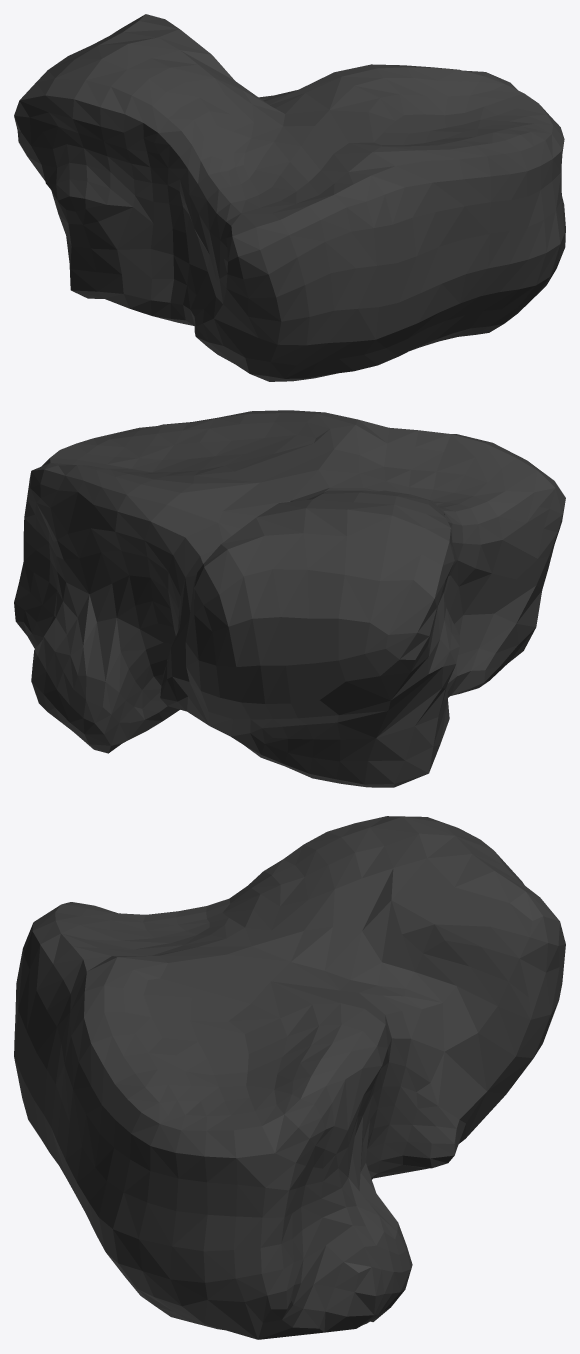
The model's file is 3rd_carpal_R.glb.
3 renders of one model, top to bottom at view 1: azimuth 30°, elevation 25°; view 2: azimuth 150°, elevation 25°; view 3: azimuth 270°, elevation 25°, orthographic. The views are drawn at different scales.
Visible parts, largest first — view 1: 3rd_carpal_R; view 2: 3rd_carpal_R; view 3: 3rd_carpal_R.
Part boxes in pixels (box(x1,y1,x2,y2)): 3rd_carpal_R: box(14, 14, 565, 381); 3rd_carpal_R: box(14, 410, 565, 787); 3rd_carpal_R: box(14, 816, 565, 1339).
Bounding box in the file's own units: 0.0784 × 0.0485 × 0.0696.
Materials: 1 (1 with a texture image).
